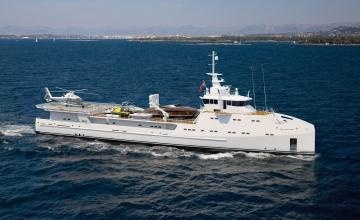yacht: (32, 52, 324, 158)
